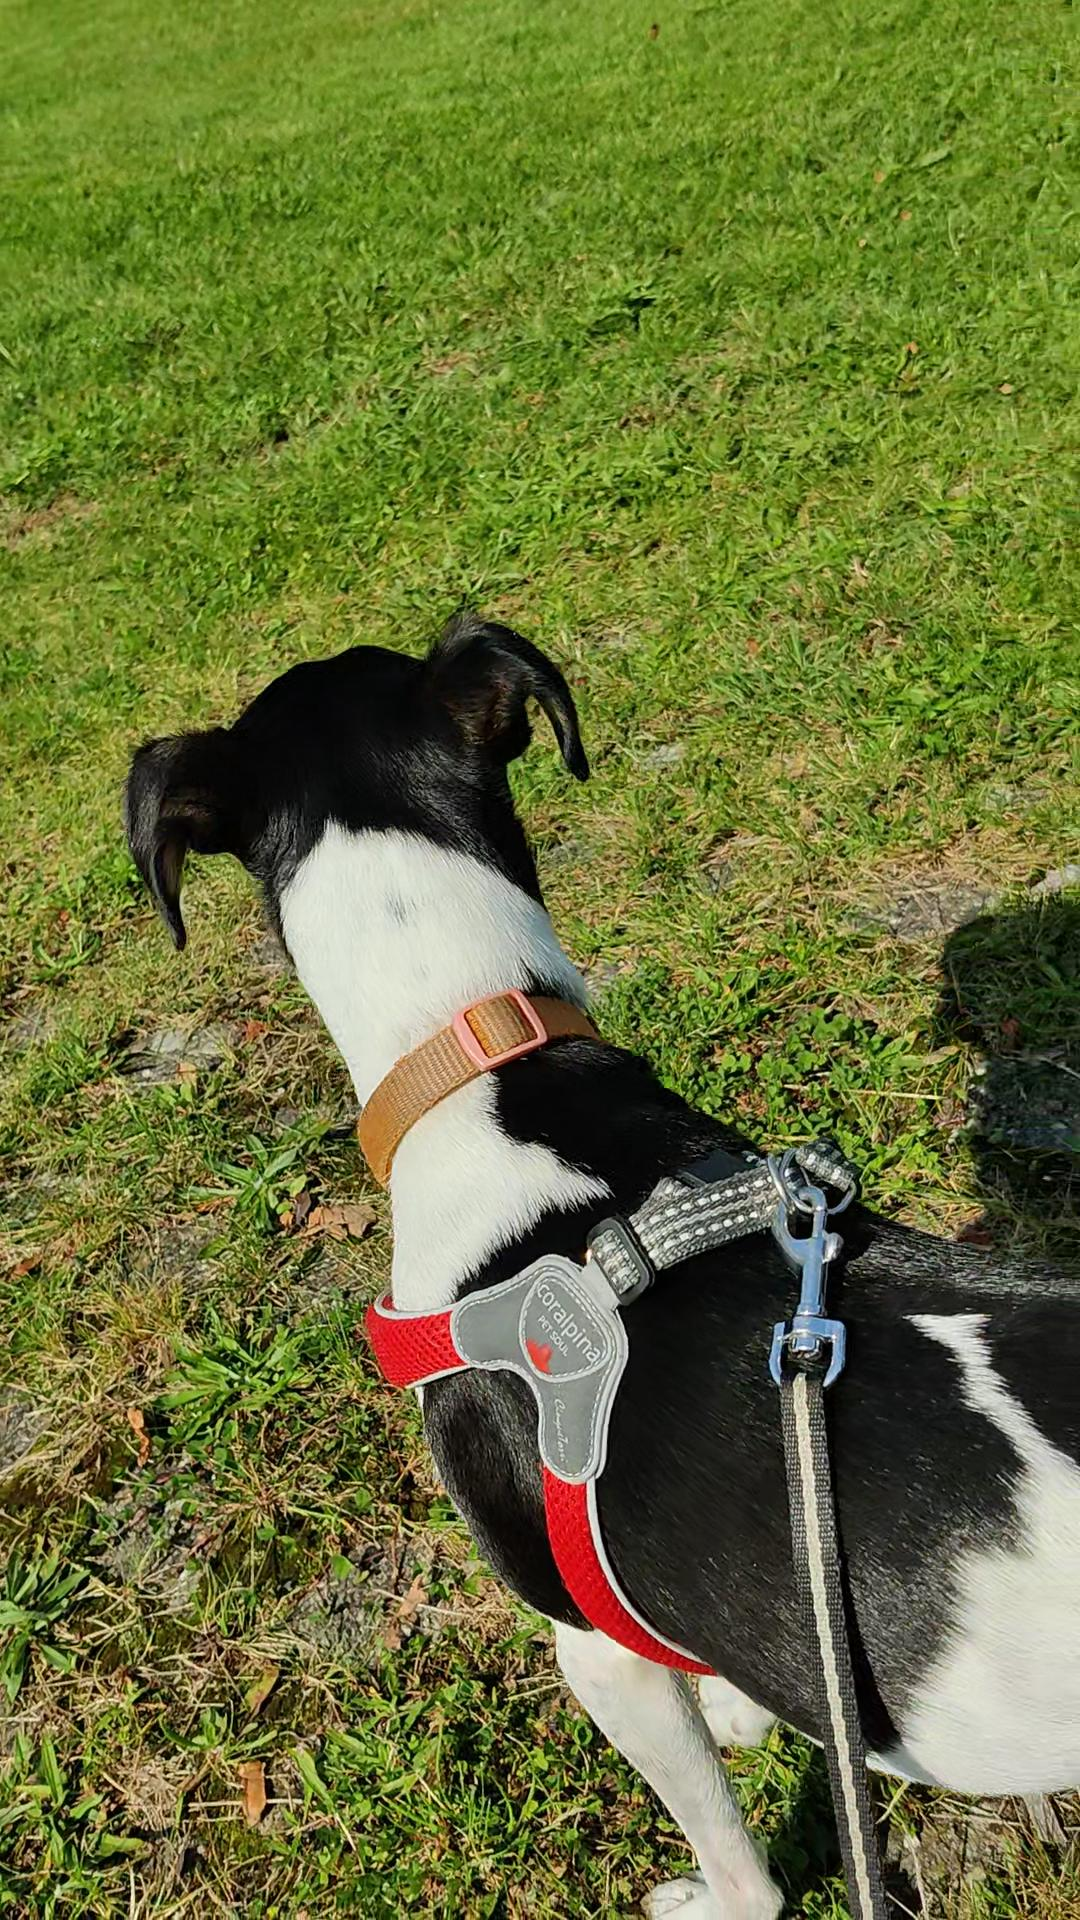Dog: (70, 585, 1079, 1919)
